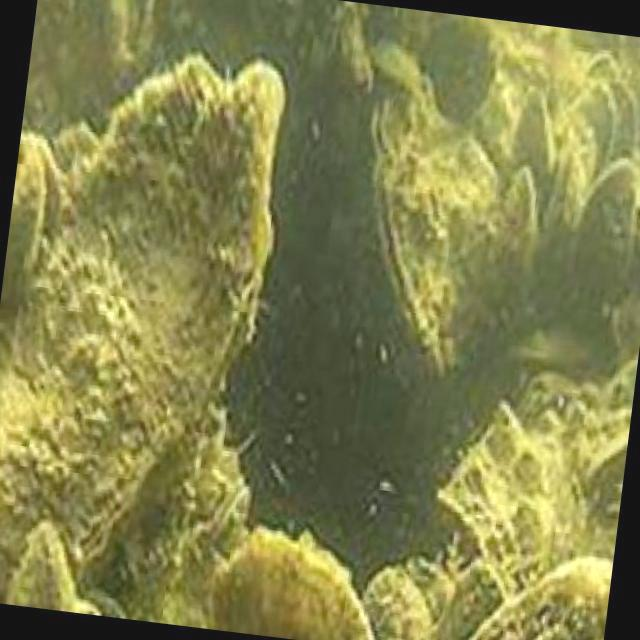Oyster-Closed: (0, 69, 283, 600), (369, 82, 499, 390), (199, 538, 371, 639), (482, 562, 613, 639), (567, 162, 636, 304), (421, 15, 495, 118), (492, 162, 542, 309), (533, 149, 578, 289), (511, 80, 556, 211), (569, 79, 619, 182), (606, 81, 639, 165), (581, 52, 616, 82)
Oyster-Open: (1, 513, 128, 618), (0, 127, 62, 309)
